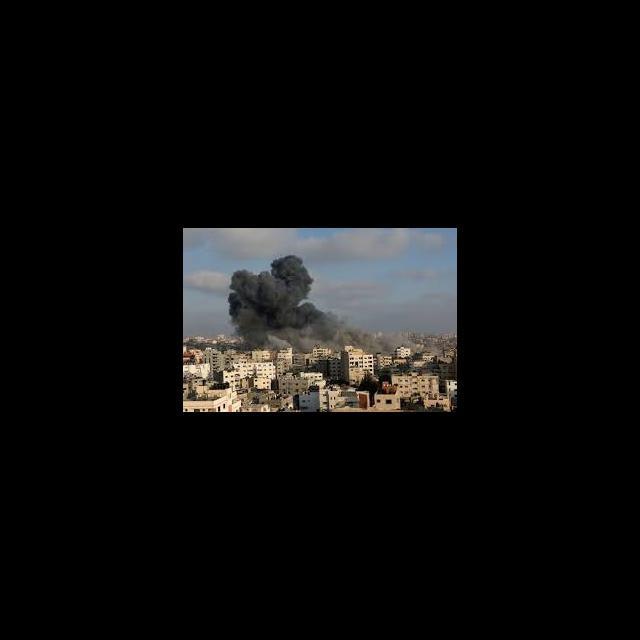Smoke: (228, 256, 416, 353)
